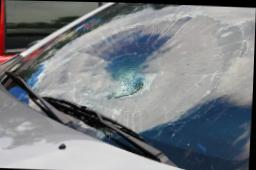Windshield: (5, 3, 256, 170)
